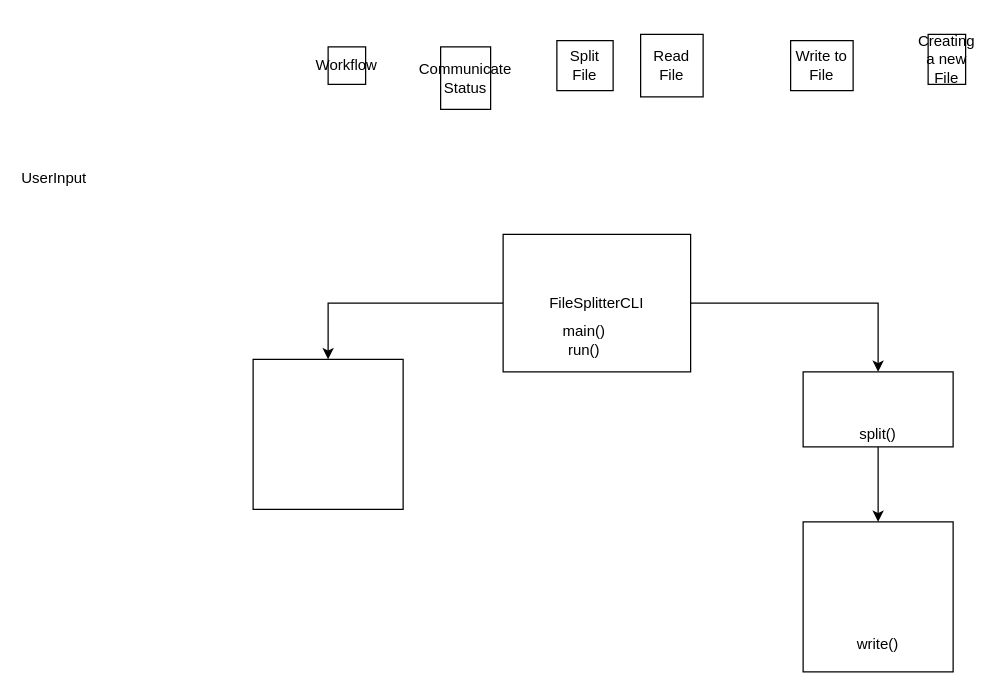
The diagram is 996 pixels wide and 694 high, and some of its shapes have lost their labels. Here are the shapes that lost their labels. From the top down, the box of each, then its label:
(802, 371, 953, 447): FileSplitter
(252, 358, 403, 509): Menu
(802, 521, 953, 672): FileWriter
